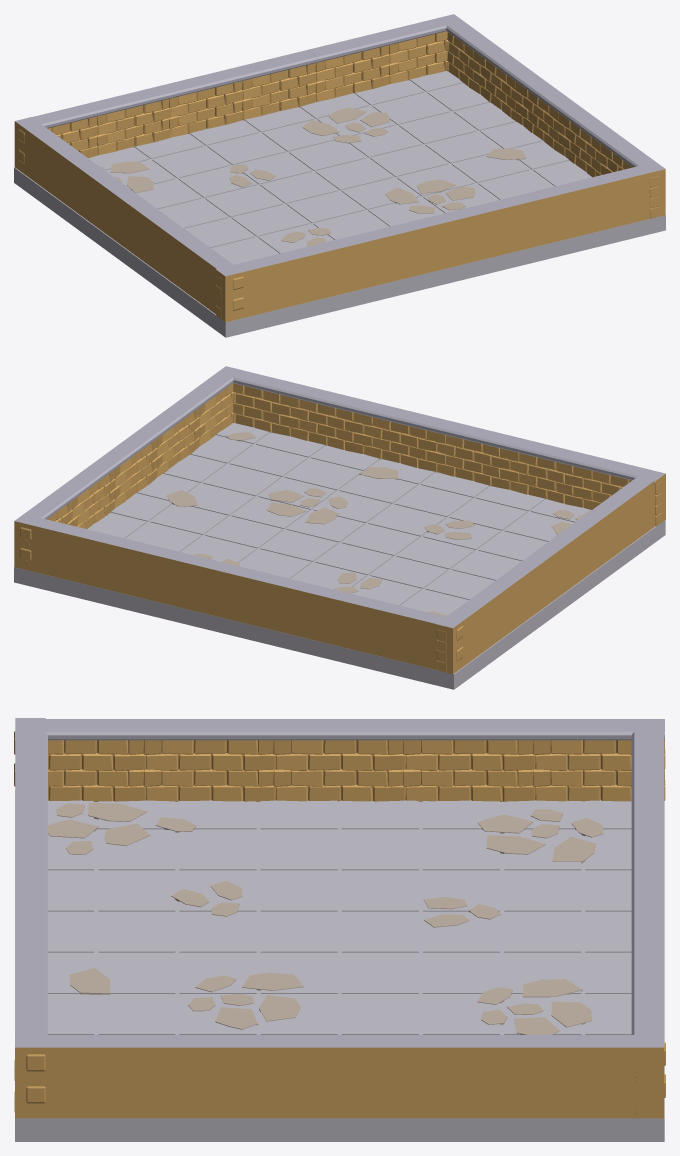
Rendered from roomModel.glb.
3 views of the same model, one above another, from view 1: azimuth 30°, elevation 25°; view 2: azimuth 150°, elevation 25°; view 3: azimuth 270°, elevation 25° (orthographic). The views are drawn at different scales.
Visible parts, largest first — view 1: floor; view 2: floor; view 3: floor.
Part boxes in pixels (bbox=[...]): floor: bbox=[14, 14, 665, 337]; floor: bbox=[14, 366, 665, 689]; floor: bbox=[14, 718, 665, 1141].
Size of the model in its own units: 60.12 by 8 by 50.19.
